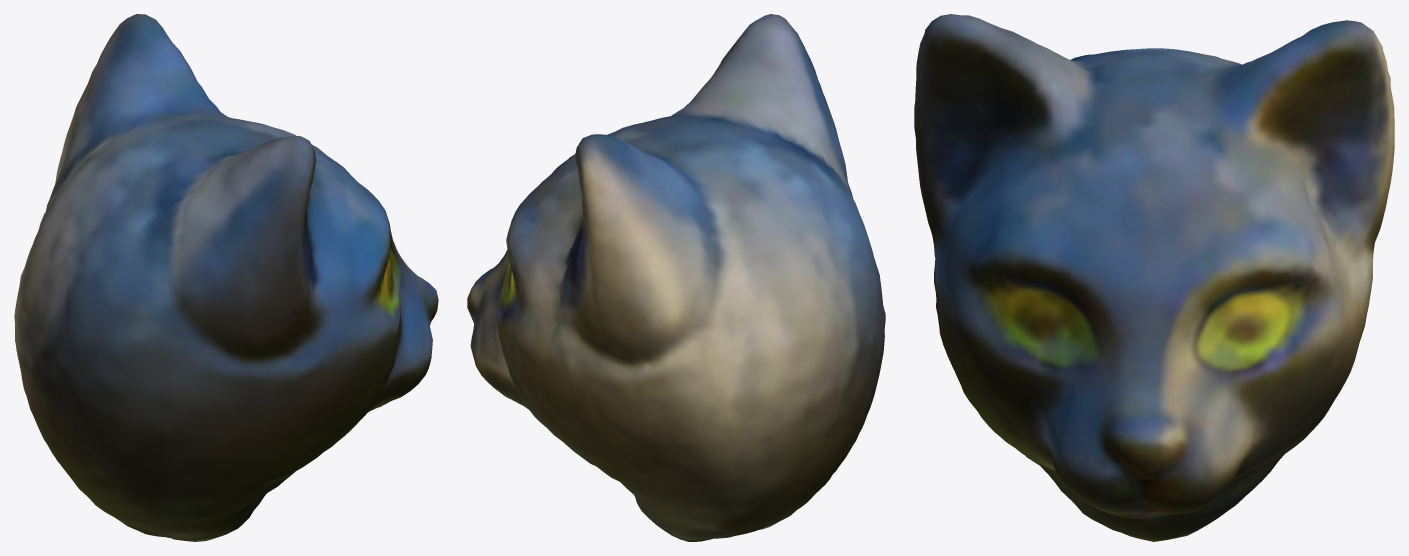
Rendered from Create_cat_with_Oval_face_with_intense_eyes_a_neutral_expre_0614160510_preview.obj.
The picture shows the model from 3 angles, left to right: view 1: azimuth 30°, elevation 25°; view 2: azimuth 150°, elevation 25°; view 3: azimuth 270°, elevation 25°; orthographic projection. The views are drawn at different scales.
Visible parts, largest first — view 1: Mesh1; view 2: Mesh1; view 3: Mesh1.
Part boxes in pixels (bbox=[...]): Mesh1: bbox=[14, 14, 438, 541]; Mesh1: bbox=[467, 14, 885, 541]; Mesh1: bbox=[914, 14, 1394, 541].
Bounding box in the file's own units: 1.09 × 1.2 × 0.9882.
Materials: 1 (1 with a texture image).
